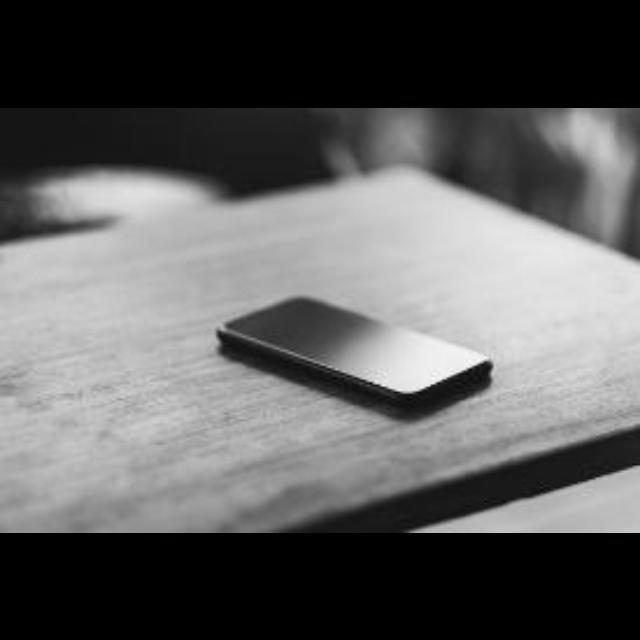fake: (202, 264, 512, 440)
